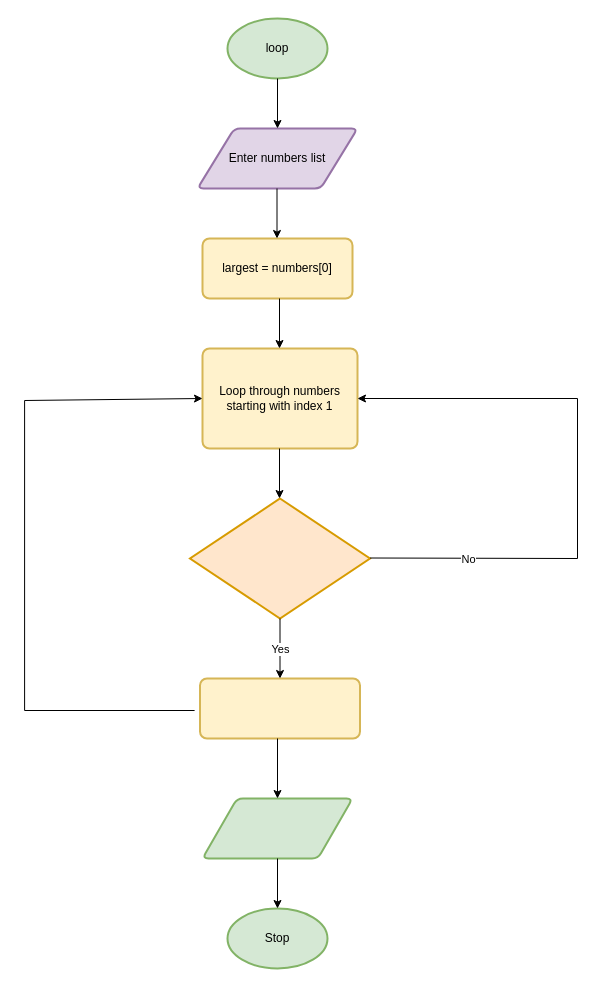
This 603x986 diagram has some shape labels left out. The shapes that lost their labels are listed below. From the top down, each one's centre as x and y in pixels, then its label:
[279,558]: if numbers[index] > largest
[279,708]: largest = numbers[index]
[277,828]: Print largest
